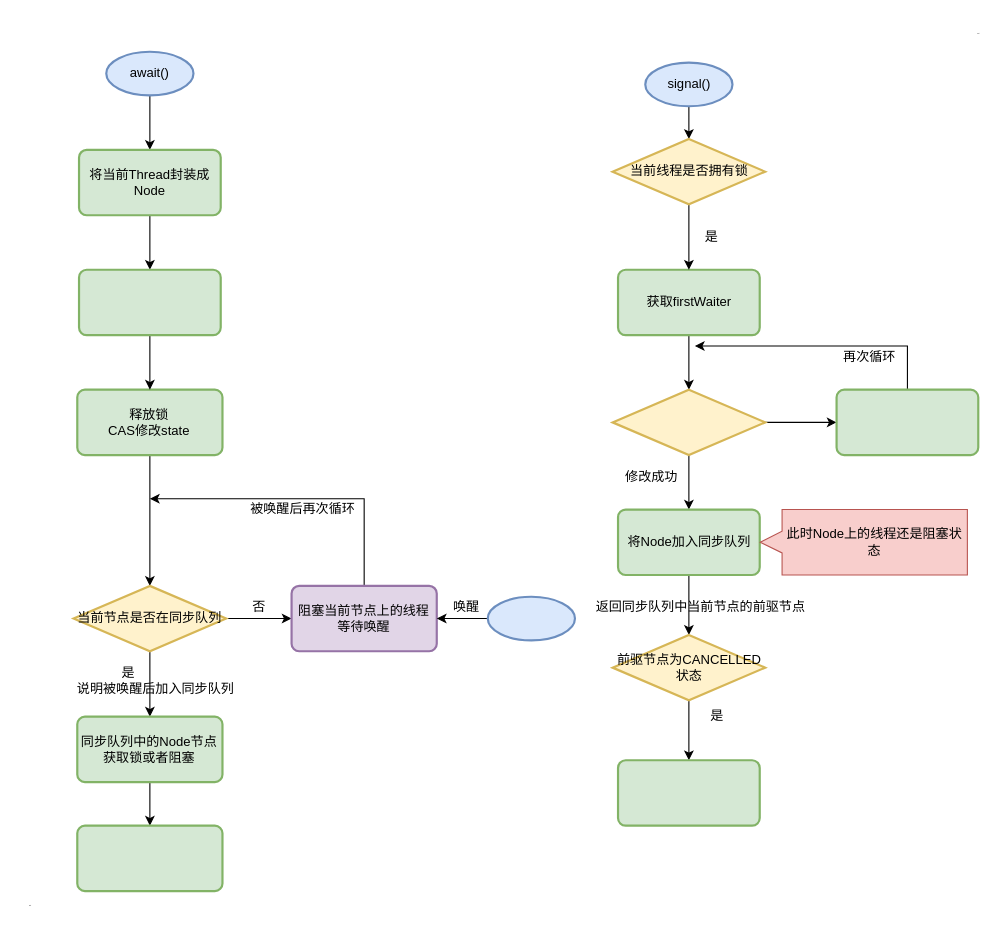
This 1007x931 diagram has some shape labels left out. The box of each missing label's shape, as (x1, y1, x2, y2) in pixels:
CAS修改节点的waitStatus，置为0: (611, 388, 766, 456)
unlock(): (486, 595, 576, 641)
加入条件队列: (77, 268, 221, 336)
唤醒前驱节点: (616, 759, 760, 826)
成功获取锁后进行一些收尾操作：清理条件队列、处理中断: (76, 824, 223, 892)
获取下一个节点并置为firstWaiter: (835, 388, 979, 456)
